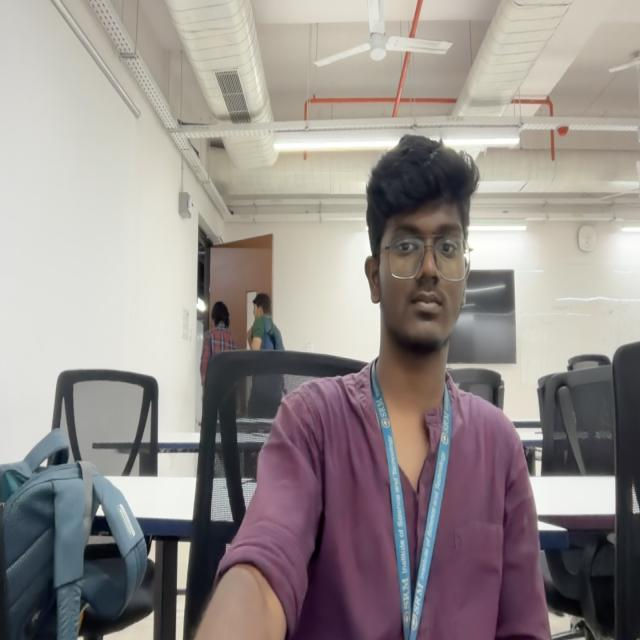ravindra: (366, 132, 480, 357)
